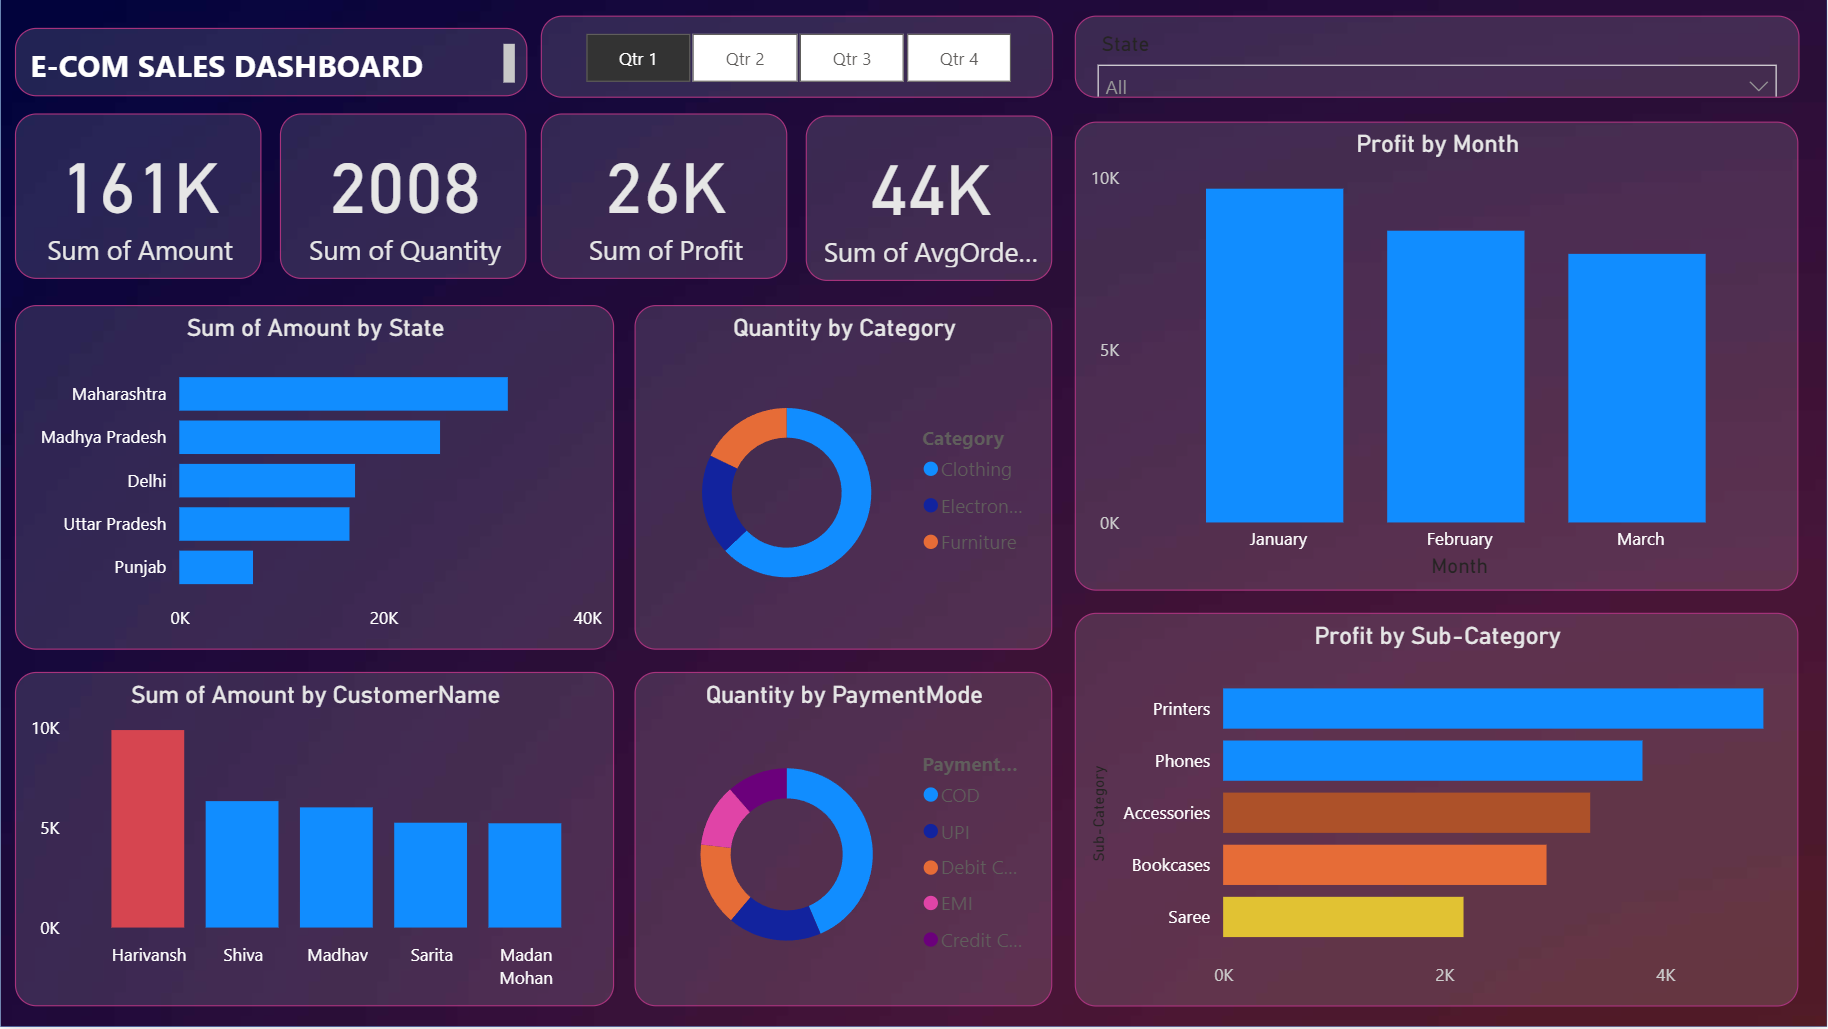

The page's visual inventory and layout, read from the dashboard file:
{"tool":"powerbi","page":{"name":"Page 1","canvas":[1280,720],"ordinal":0},"visuals":[{"type":"columnChart","title":"Profit by Month","fields":{"Category":["Orders.Order Date.Variation.Date Hierarchy.Month"],"Y":["Sum(Details.Profit)"]},"box":[752.9,85.7,507.1,328.6],"z":0},{"type":"barChart","title":"Profit by Sub-Category","fields":{"Category":["Details.Sub-Category"],"Y":["Sum(Details.Profit)"]},"box":[752.9,430,507.1,275.7],"z":1000},{"type":"donutChart","title":"Quantity by Category","fields":{"Category":["Details.Category"],"Y":["Sum(Details.Quantity)"]},"box":[444.3,214.3,292.9,241.4],"z":2000},{"type":"donutChart","title":"Quantity by PaymentMode","fields":{"Y":["Sum(Details.Quantity)"],"Category":["Details.PaymentMode"]},"box":[444.3,471.4,292.9,234.3],"z":3000},{"type":"card","fields":{"Values":["Sum(Details.Amount)"]},"box":[10,80,172.9,115.7],"z":4000},{"type":"card","fields":{"Values":["Sum(Details.AvgOrderVal)"]},"box":[564.3,81.4,172.9,115.7],"z":5000},{"type":"card","fields":{"Values":["Sum(Details.Profit)"]},"box":[378.6,80,172.9,115.7],"z":6000},{"type":"card","fields":{"Values":["Sum(Details.Quantity)"]},"box":[195.7,80,172.9,115.7],"z":7000},{"type":"barChart","title":"Sum of Amount by State","fields":{"Category":["Orders.State"],"Y":["Sum(Details.Amount)"]},"box":[10,214.3,420,241.4],"z":8000},{"type":"columnChart","fields":{"Category":["Orders.CustomerName"],"Y":["Sum(Details.Amount)"]},"box":[10,471,420,234],"z":9000},{"type":"slicer","fields":{"Values":["Orders.Order Date.Variation.Date Hierarchy.Quarter"]},"box":[462.2,11.1,275.6,57.8],"z":10000},{"type":"slicer","fields":{"Values":["Orders.State"]},"box":[753.3,11.1,253.3,57.8],"z":11000},{"type":"textbox","box":[10,21.2,337.5,37.5],"z":12000}]}

Visuals, with their boxes in screenshot pixels (x1, y1, x2, y2), scaled from the page's 1280x720 canvas onto the 1828x1029 screenshot:
"Profit by Month" columnChart: BBox(1075, 122, 1799, 592)
"Profit by Sub-Category" barChart: BBox(1075, 615, 1799, 1009)
"Quantity by Category" donutChart: BBox(635, 306, 1053, 651)
"Quantity by PaymentMode" donutChart: BBox(635, 674, 1053, 1009)
card - Sum(Details.Amount): BBox(14, 114, 261, 280)
card - Sum(Details.AvgOrderVal): BBox(806, 116, 1053, 282)
card - Sum(Details.Profit): BBox(541, 114, 788, 280)
card - Sum(Details.Quantity): BBox(279, 114, 526, 280)
"Sum of Amount by State" barChart: BBox(14, 306, 614, 651)
columnChart - Orders.CustomerName x Sum(Details.Amount): BBox(14, 673, 614, 1008)
slicer - Orders.Order Date.Variation.Date Hierarchy.Quarter: BBox(660, 16, 1054, 98)
slicer - Orders.State: BBox(1076, 16, 1438, 98)
textbox: BBox(14, 30, 496, 84)
